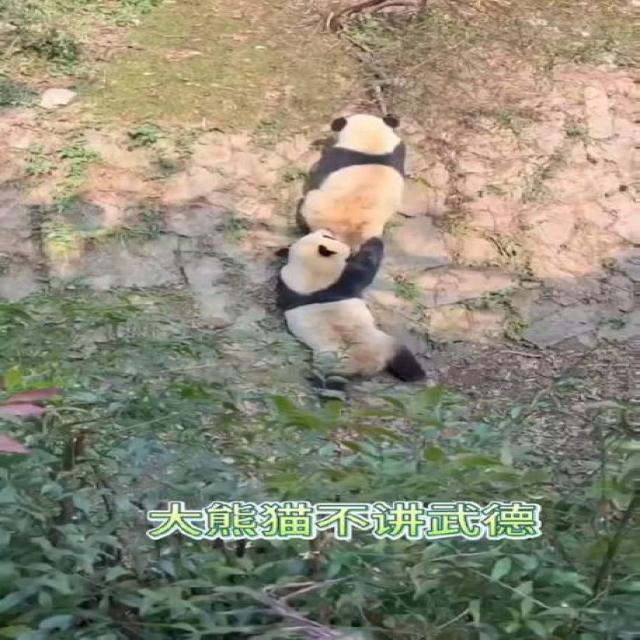panda: (261, 110, 436, 406)
